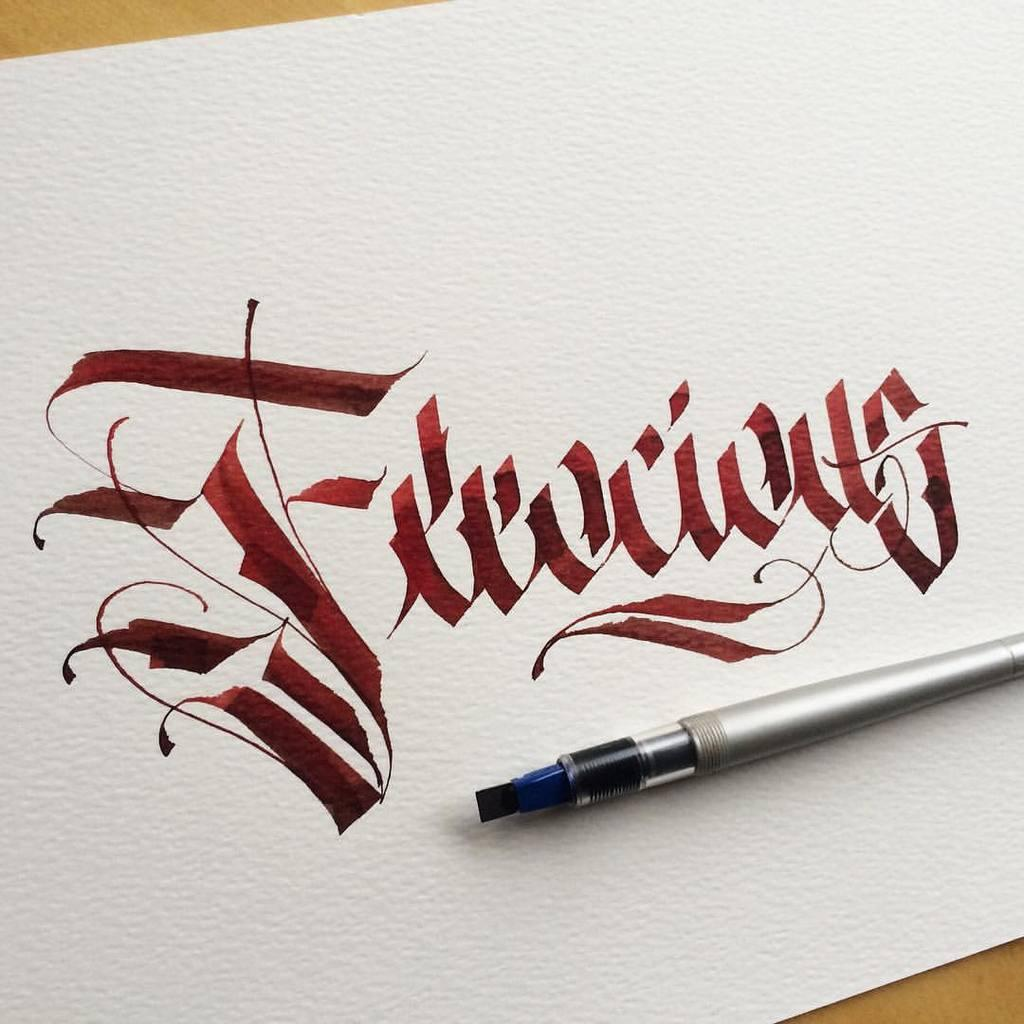pen: (464, 617, 1023, 828)
